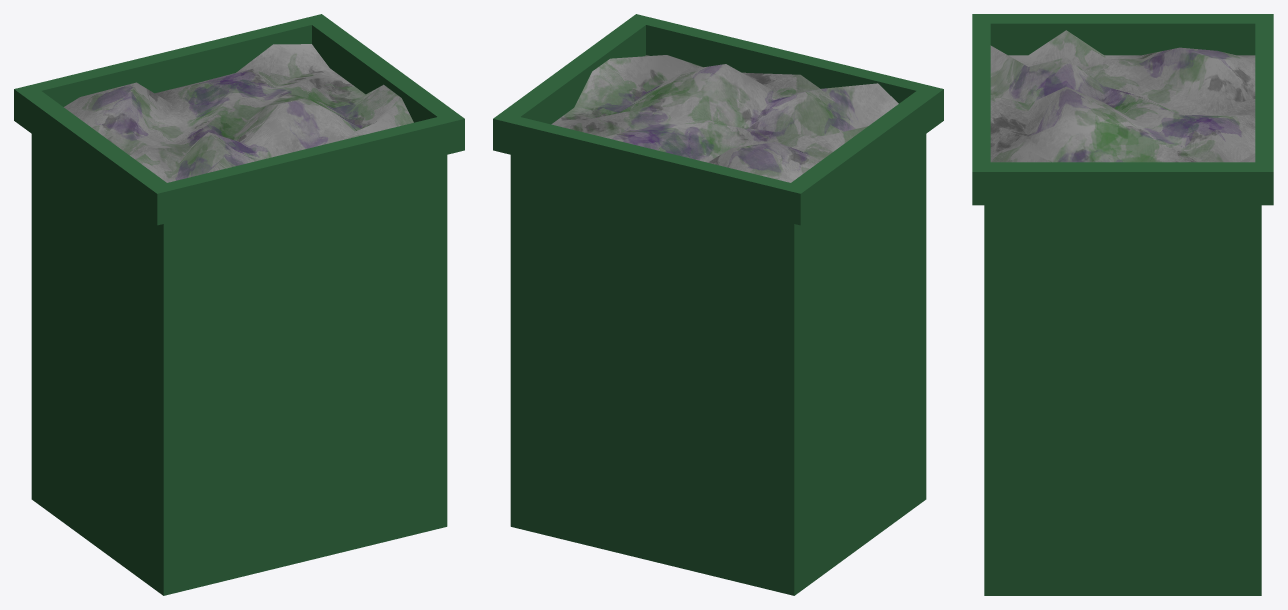
File: containertrash.fbx
3 views of the same model, side by side, from view 1: azimuth 30°, elevation 25°; view 2: azimuth 150°, elevation 25°; view 3: azimuth 270°, elevation 25° (orthographic). The views are drawn at different scales.
Visible parts, largest first — view 1: container_trash; view 2: container_trash; view 3: container_trash.
Boxes of the visible parts, x1,y1,x2,y2 form: container_trash: (14,14,464,595); container_trash: (493,14,943,595); container_trash: (972,14,1273,595).
Size of the model in its own units: 10.38 by 13.69 by 8.36.
Materials: 1 (1 with a texture image).
